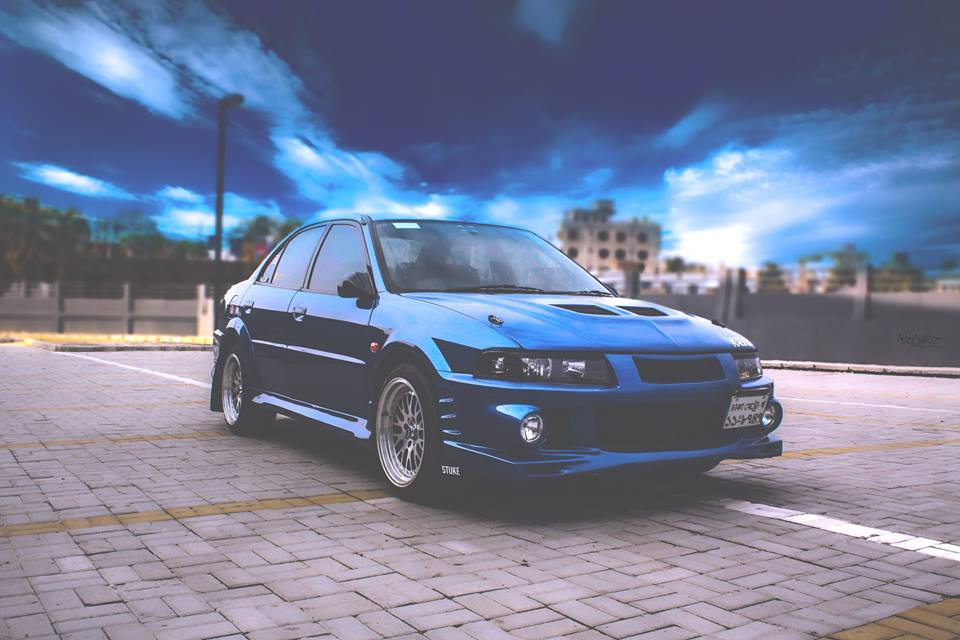registration_plate: (721, 393, 769, 430)
